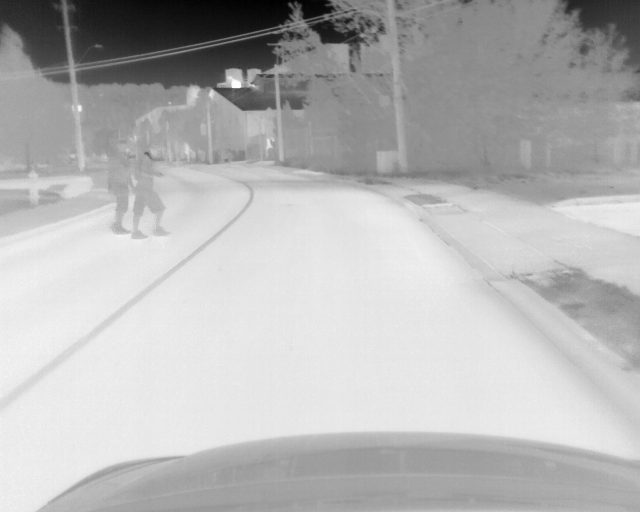people: (130, 144, 172, 240), (106, 138, 134, 235)
